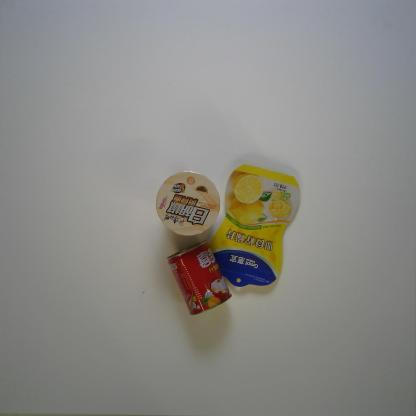Canned Food: (166, 239, 232, 316)
Dried Fruit: (209, 163, 300, 288)
Instant Noodles: (155, 170, 221, 237)
